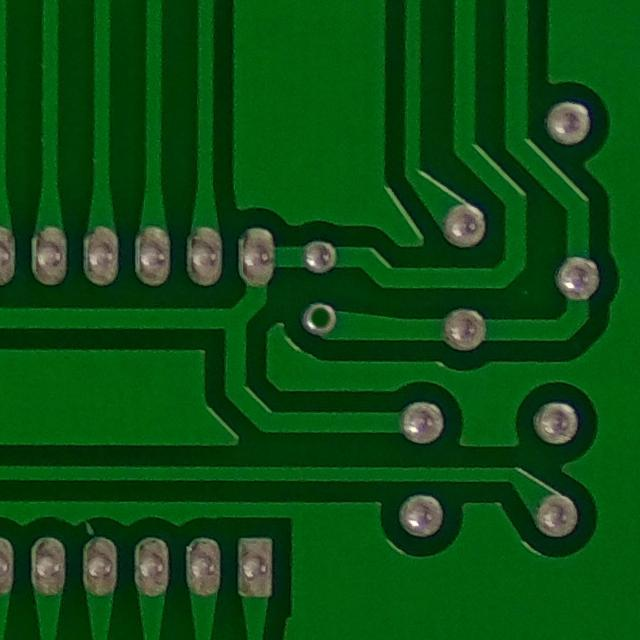missing_hole: (298, 292, 344, 344)
